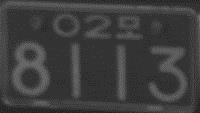0: (51, 12, 81, 38)
1: (60, 42, 95, 97), (105, 43, 137, 101)
2: (82, 12, 112, 38)
3: (148, 44, 189, 101)
8: (11, 41, 50, 96)
모: (114, 14, 143, 40)
